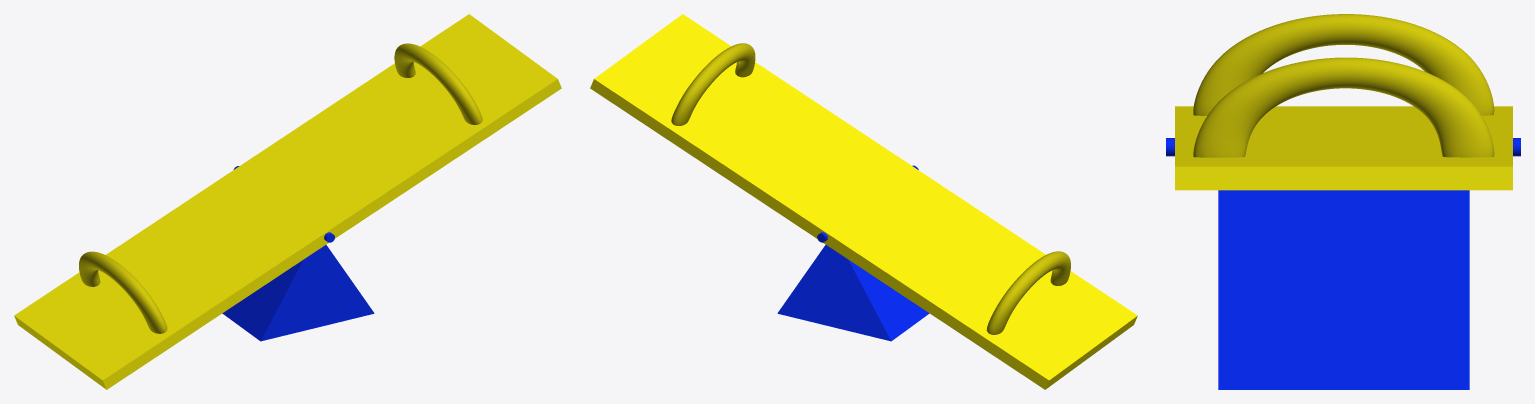
Rendered from Seesaw.obj.
3 renders of one model, left to right at view 1: azimuth 30°, elevation 25°; view 2: azimuth 150°, elevation 25°; view 3: azimuth 270°, elevation 25°, orthographic. The views are drawn at different scales.
Visible parts, largest first — view 1: mesh02, mesh01, mesh04, mesh05; view 2: mesh02, mesh01, mesh04, mesh05; view 3: mesh01, mesh02, mesh05, mesh04, mesh03.
Boxes of the visible parts, left/top/right/bottom form: mesh02: left=14, top=14, right=561, bottom=389; mesh01: left=222, top=245, right=374, bottom=341; mesh04: left=79, top=251, right=167, bottom=333; mesh05: left=394, top=43, right=482, bottom=124; mesh02: left=590, top=14, right=1137, bottom=389; mesh01: left=777, top=245, right=929, bottom=341; mesh04: left=986, top=251, right=1070, bottom=334; mesh05: left=671, top=43, right=755, bottom=125; mesh01: left=1218, top=190, right=1469, bottom=389; mesh02: left=1175, top=106, right=1512, bottom=190; mesh05: left=1193, top=57, right=1494, bottom=157; mesh04: left=1193, top=14, right=1494, bottom=115; mesh03: left=1166, top=138, right=1520, bottom=156.
Bounding box in the file's own units: 33.49 × 15.04 × 11.77.
3 materials, 3 textured.
